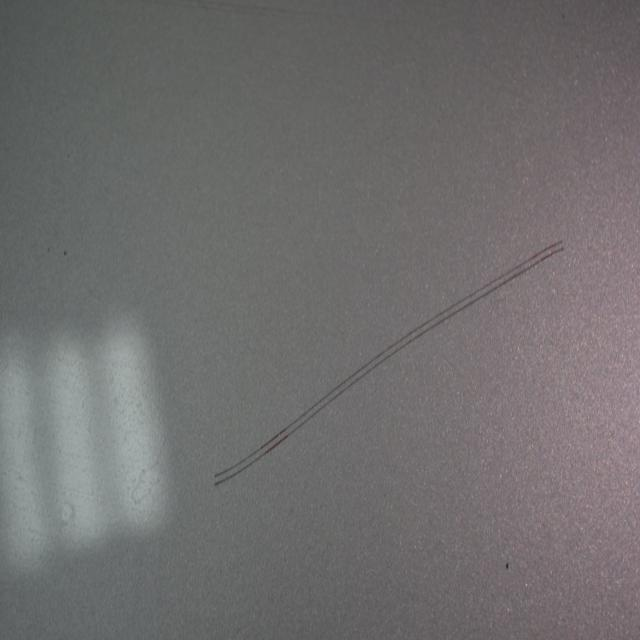dirt: (504, 558, 511, 573), (45, 246, 53, 257), (62, 247, 69, 255)
scratch: (208, 231, 568, 495)
water marks: (128, 461, 164, 508), (56, 494, 78, 529)
